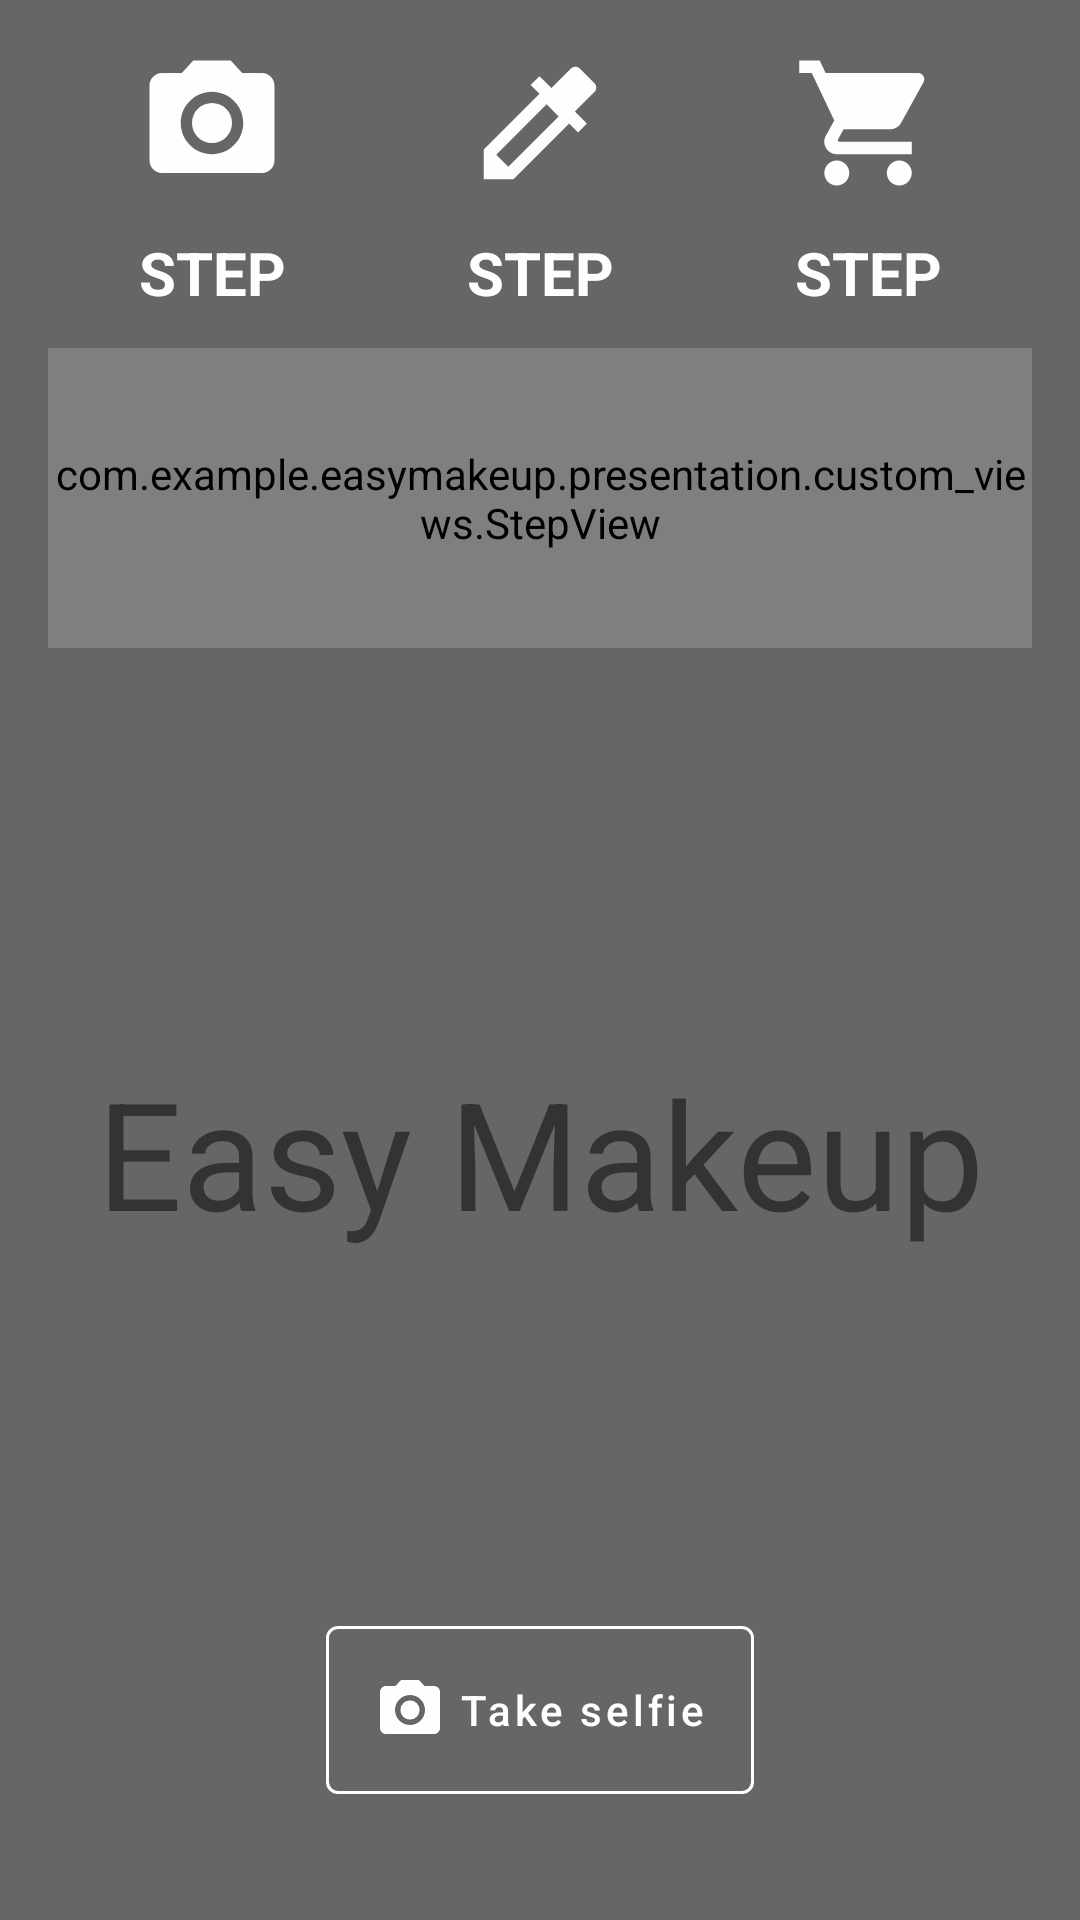

Icon click points for this 1080px x 1920px phone screenshot, format point (x, y):
camera: point (212, 116)
cart: point (862, 123)
picker: point (540, 123)
